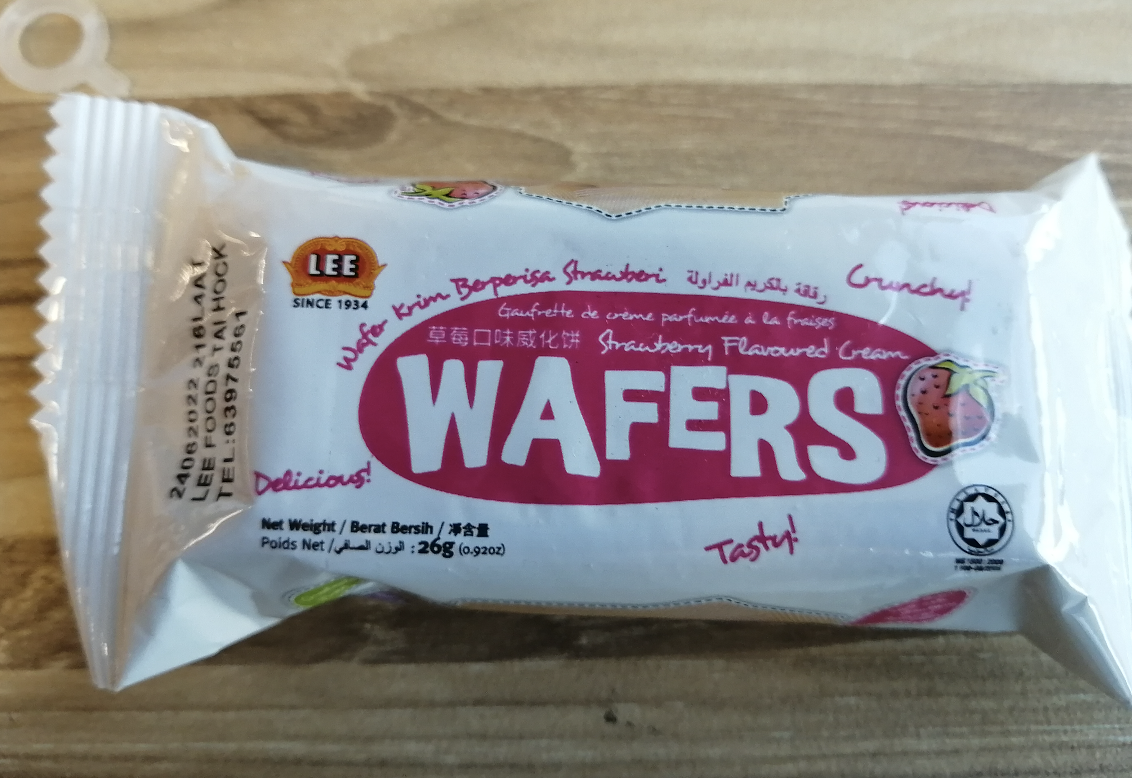Wafers: (91, 208, 1098, 597)
